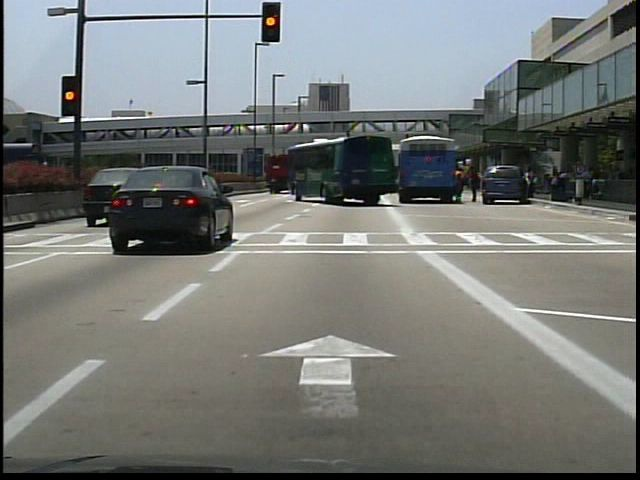person: (466, 161, 480, 204), (456, 163, 471, 203), (523, 168, 536, 205)
